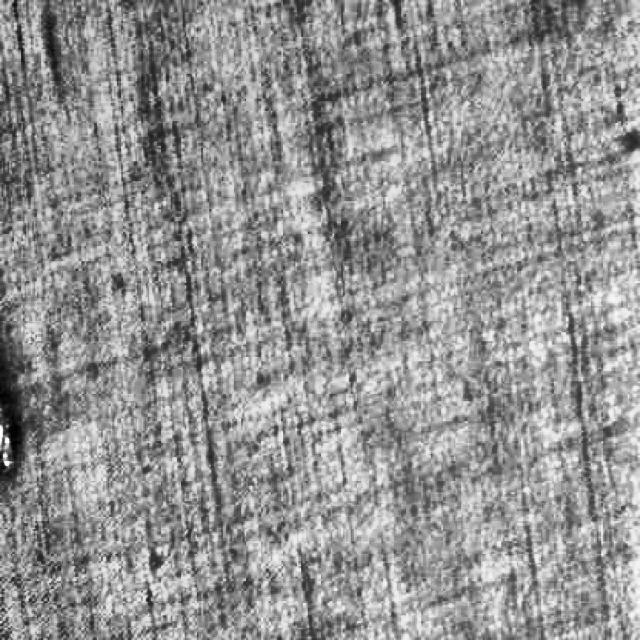hole: (1, 351, 44, 492)
